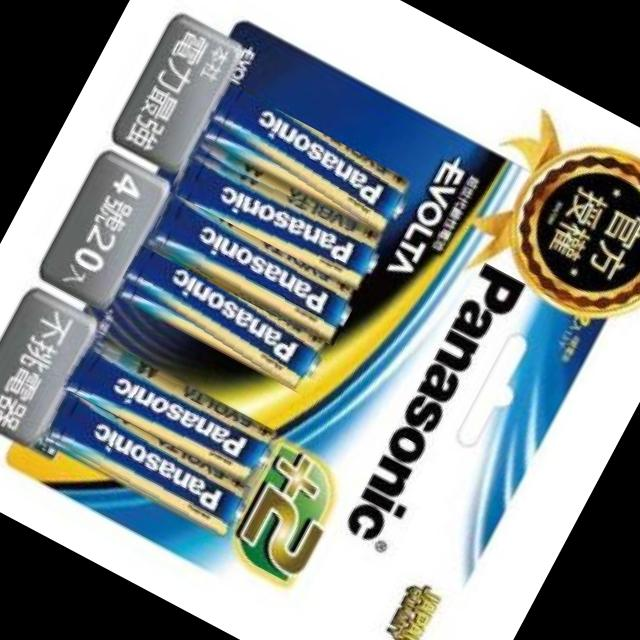Hazard: (192, 80, 417, 239), (59, 332, 283, 489), (165, 137, 389, 293), (111, 243, 332, 398), (34, 386, 255, 540), (140, 192, 359, 346)
